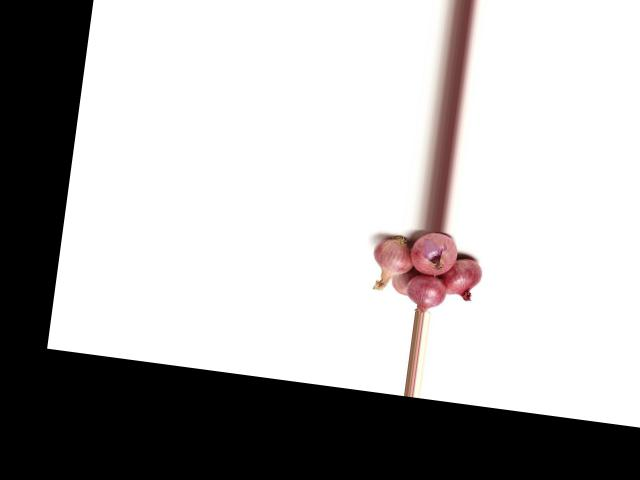onion: (399, 227, 460, 278)
